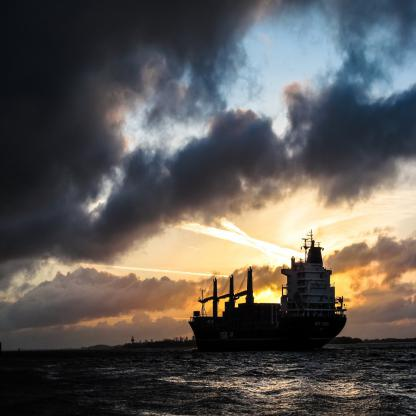Bulk Carrier: (189, 230, 346, 350)
